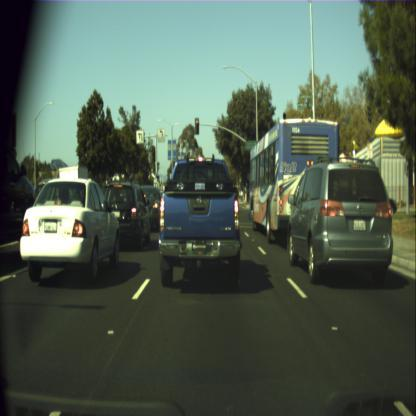Red: (194, 118, 199, 134)
